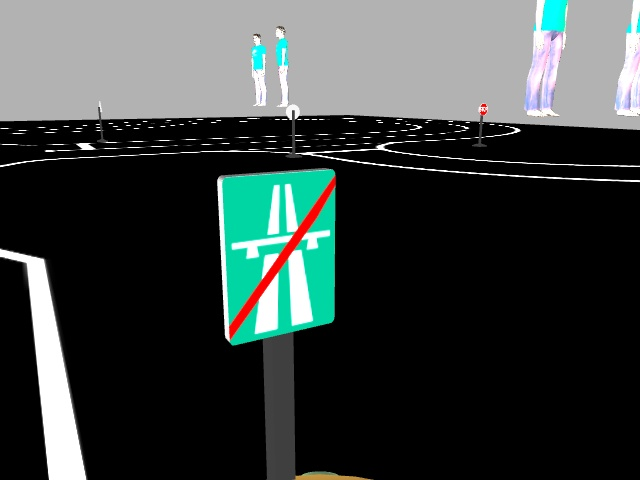HighwayExit: (218, 168, 334, 341)
